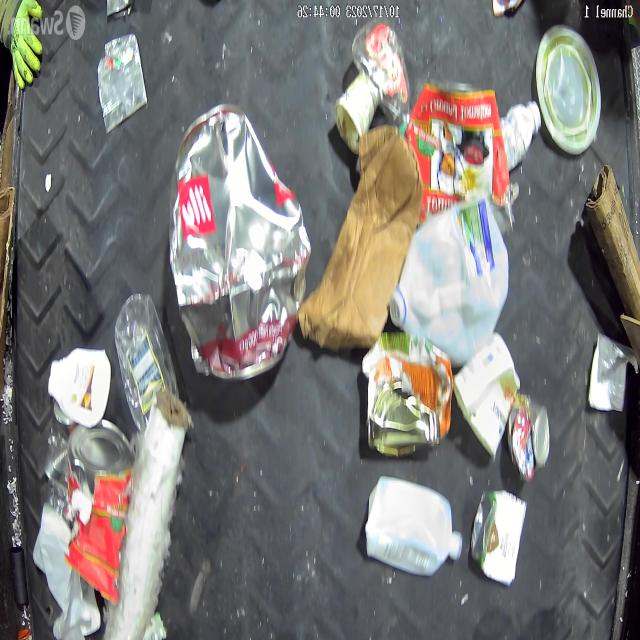can: (68, 423, 134, 590), (368, 333, 452, 457), (470, 488, 526, 586), (97, 33, 147, 132), (506, 392, 549, 482), (490, 0, 528, 20), (106, 0, 132, 19)
milk_jug: (390, 196, 510, 366), (364, 474, 462, 576)
plastic_bottle: (351, 26, 412, 138)
